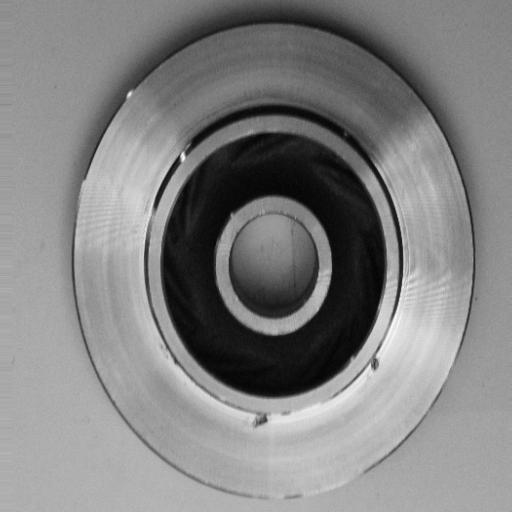crack: (248, 393, 326, 434), (363, 345, 389, 380)
scratch: (254, 475, 359, 508), (169, 129, 198, 179)
unpolished_casting: (69, 20, 478, 504)
